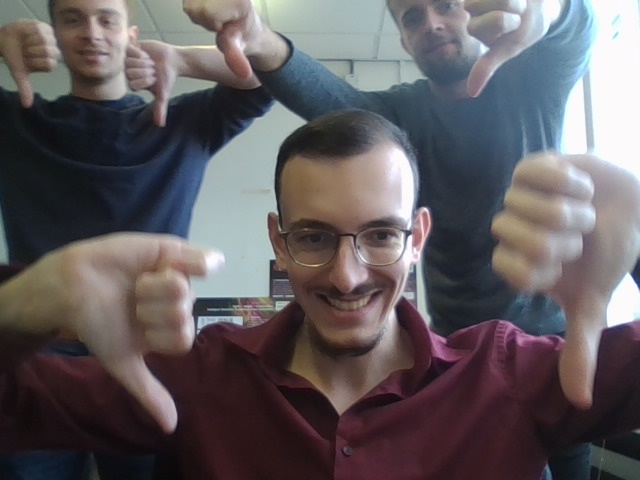thumbdown: (487, 151, 640, 410), (49, 229, 223, 431), (466, 1, 549, 91), (179, 1, 256, 82), (1, 18, 60, 109), (124, 37, 175, 128)
